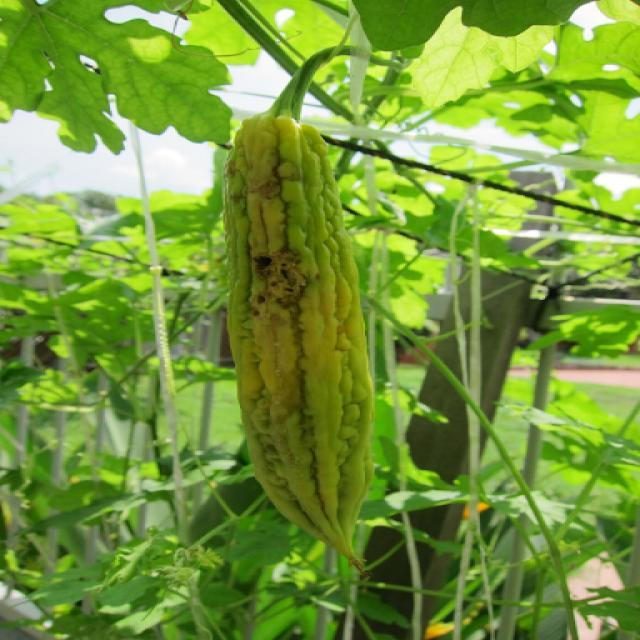Fruit fly: (226, 176, 352, 374)
